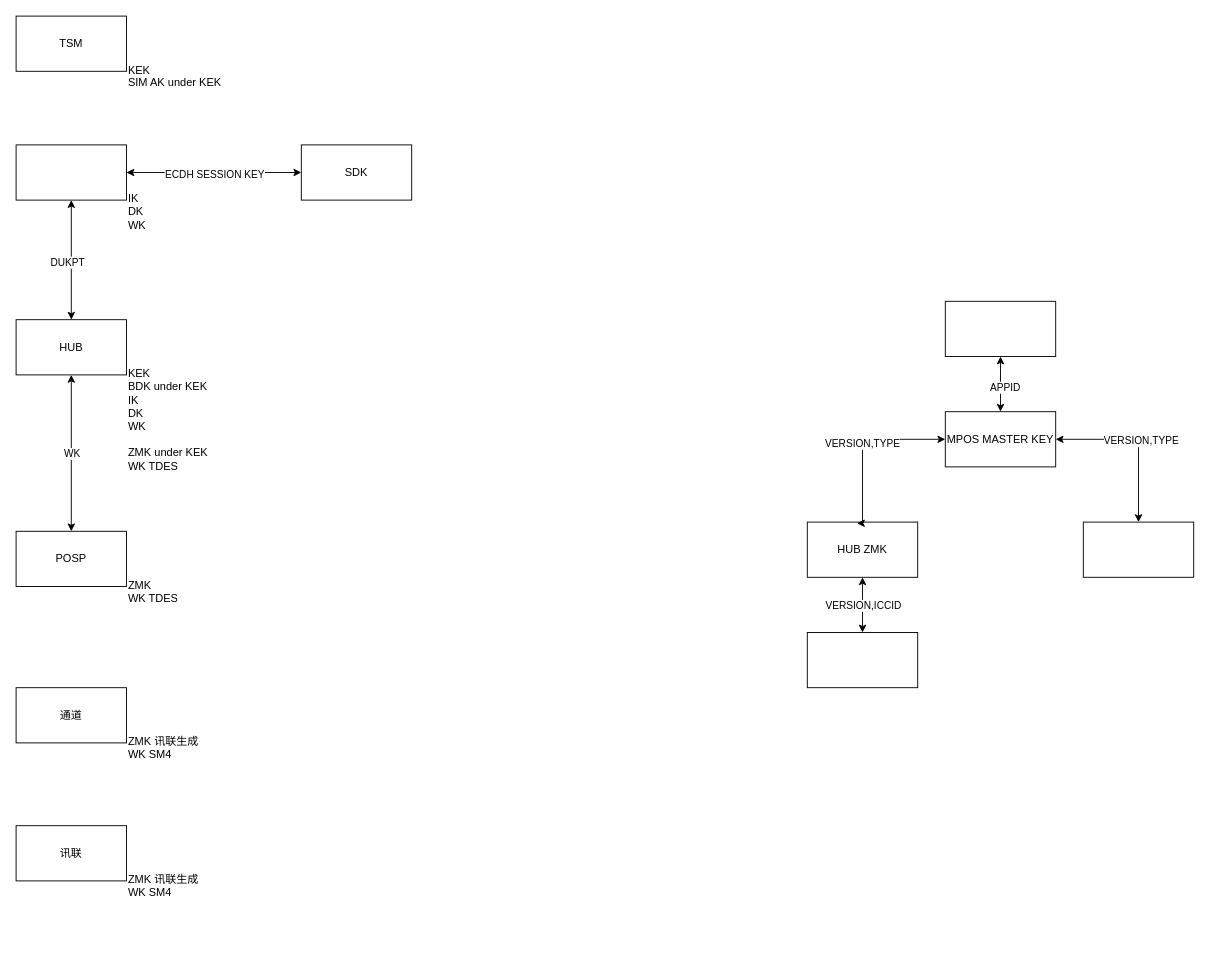
The diagram is 1210 pixels wide and 973 high, and some of its shapes have lost their labels. The shapes that lost their labels are listed below. From the top down, each one's centre as x and y in pixels, then its label:
the point at 70,172: SIM
the point at 1000,328: LMK
the point at 1138,549: BDK
the point at 862,660: SIM AK
